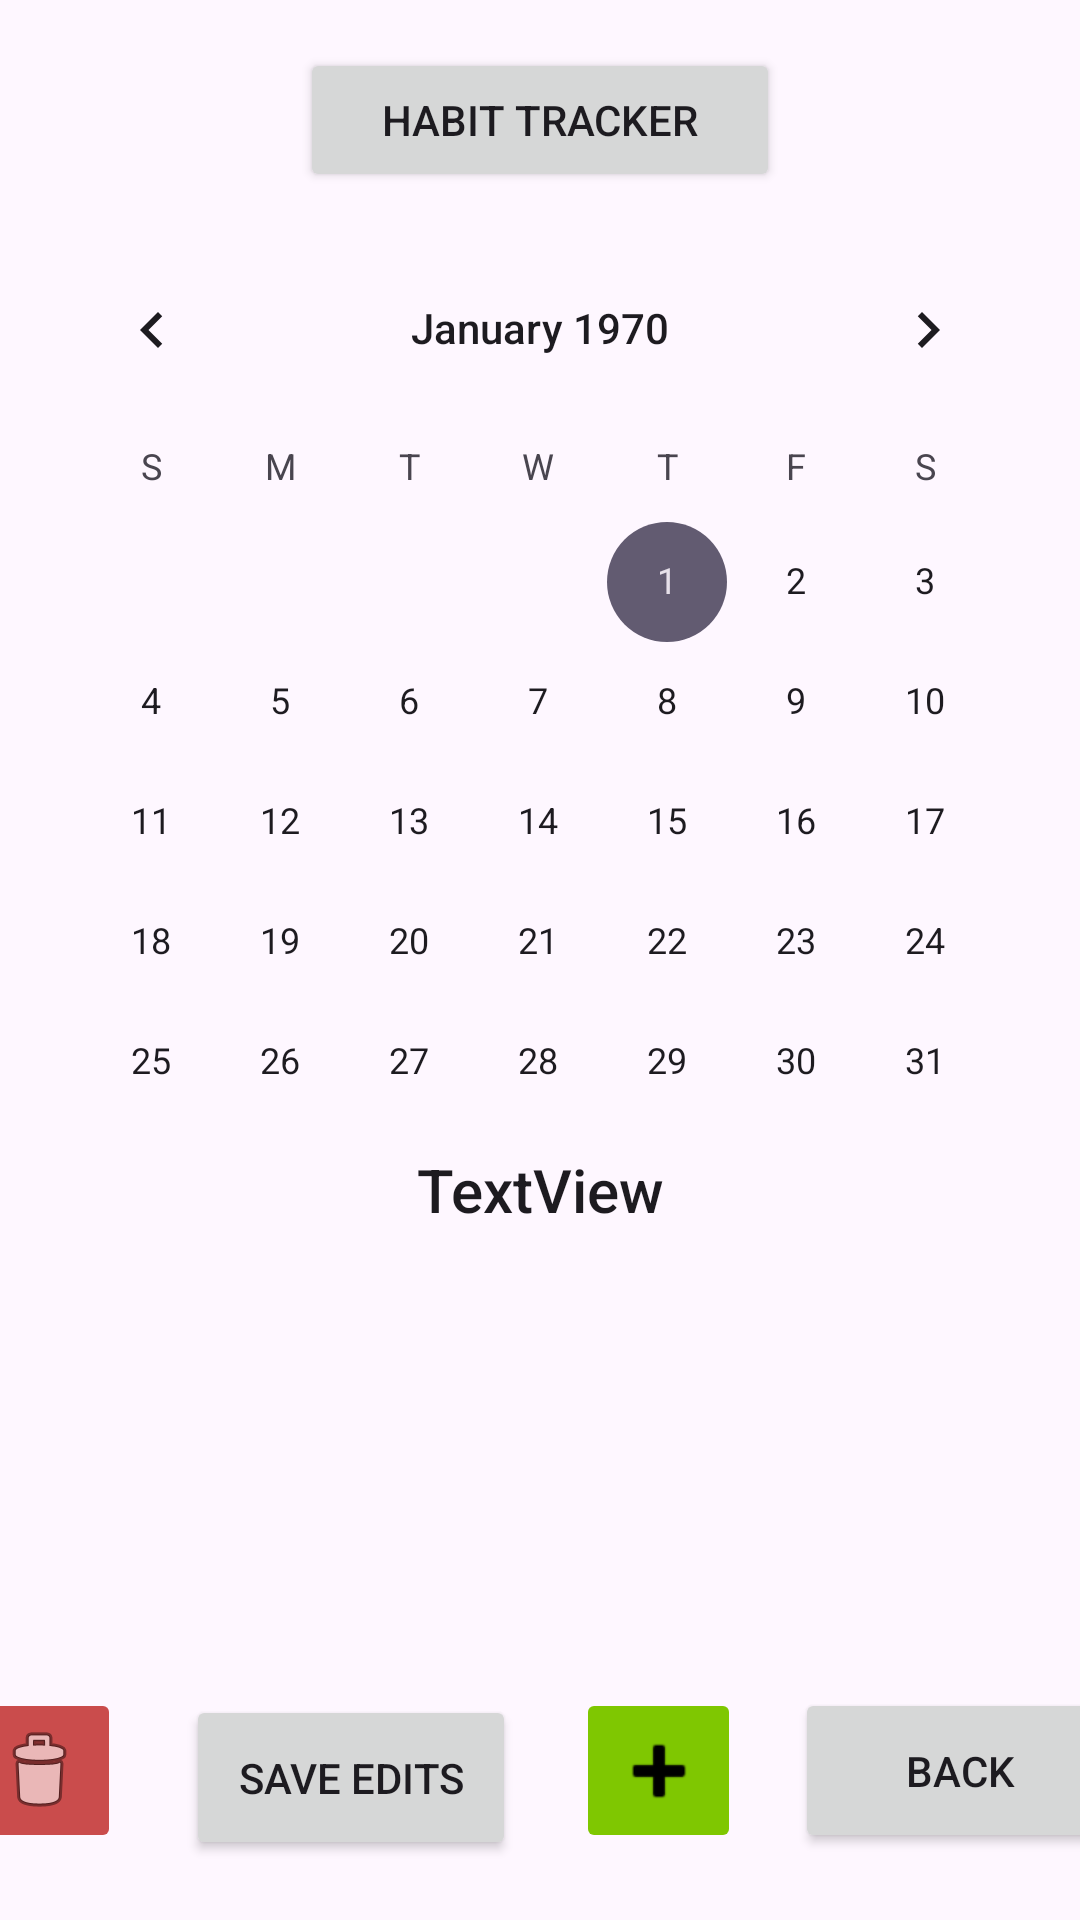

Icon click points for this 1080×1920 phone screenshot, format (x=x, y=y):
add: (x=658, y=1770)
